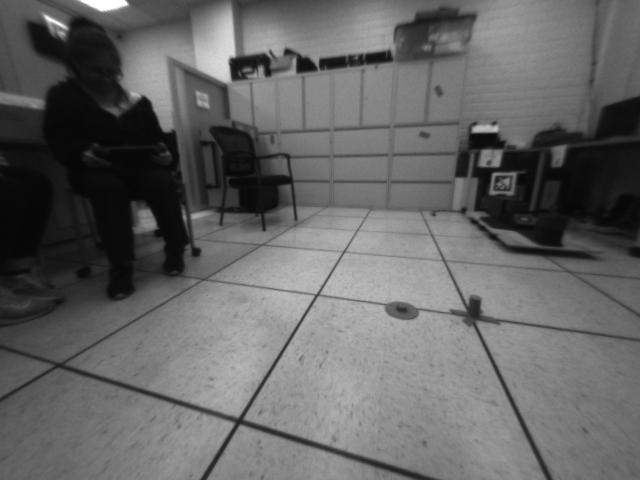X: (448, 294, 503, 328)
